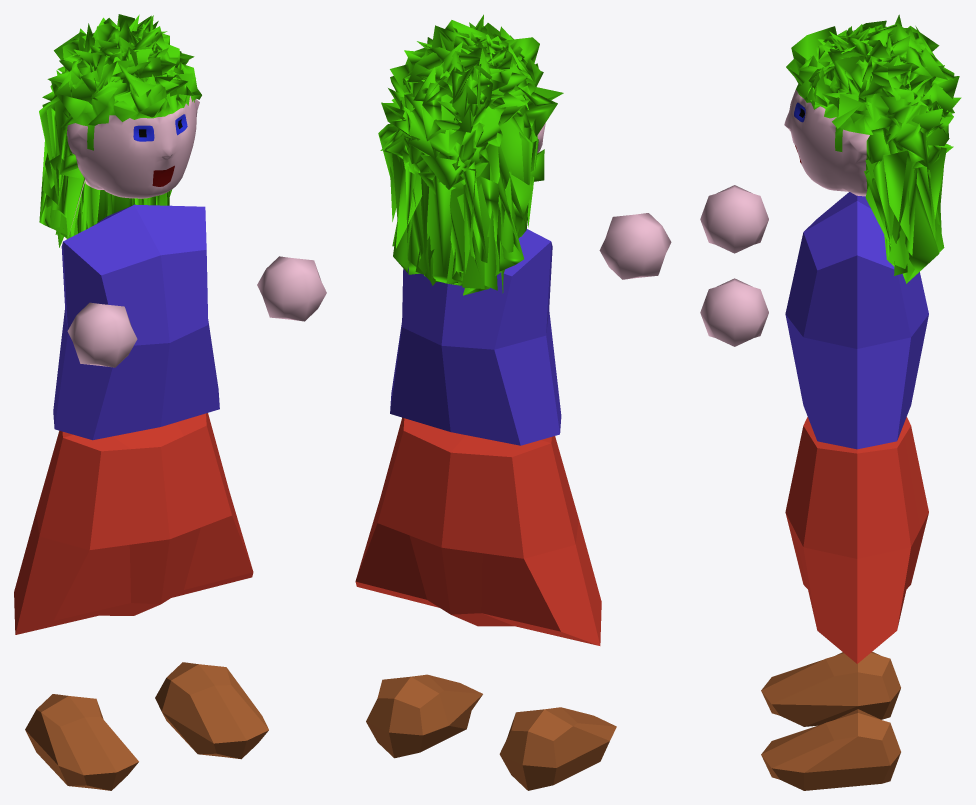
Rendered from PNJ female.fbx.
The picture shows the model from 3 angles, left to right: view 1: azimuth 30°, elevation 25°; view 2: azimuth 150°, elevation 25°; view 3: azimuth 270°, elevation 25°; orthographic projection. The views are drawn at different scales.
Parts seen in each view (by area): view 1: Corps, Tête, Chaussure gauche, Chaussur droite, bras droit, bras gauche; view 2: Corps, Tête, Chaussur droite, Chaussure gauche, bras droit; view 3: Corps, Tête, Chaussure gauche, Chaussur droite, bras droit, bras gauche.
Part boxes in pixels (x1,y1,x2,y2): Corps: (14,204,253,634); Tête: (39,14,201,247); Chaussure gauche: (155,662,268,759); Chaussur droite: (25,694,138,790); bras droit: (67,302,137,367); bras gauche: (257,256,326,321); Corps: (355,229,601,645); Tête: (378,14,563,295); Chaussur droite: (499,707,616,790); Chaussure gauche: (366,674,482,758); bras droit: (599,213,671,279); Corps: (785,192,928,663); Tête: (784,14,961,283); Chaussure gauche: (761,709,900,790); Chaussur droite: (761,651,900,726); bras droit: (700,185,768,253); bras gauche: (700,278,768,346).
Bounding box in the file's own units: 202 × 561 × 182.
